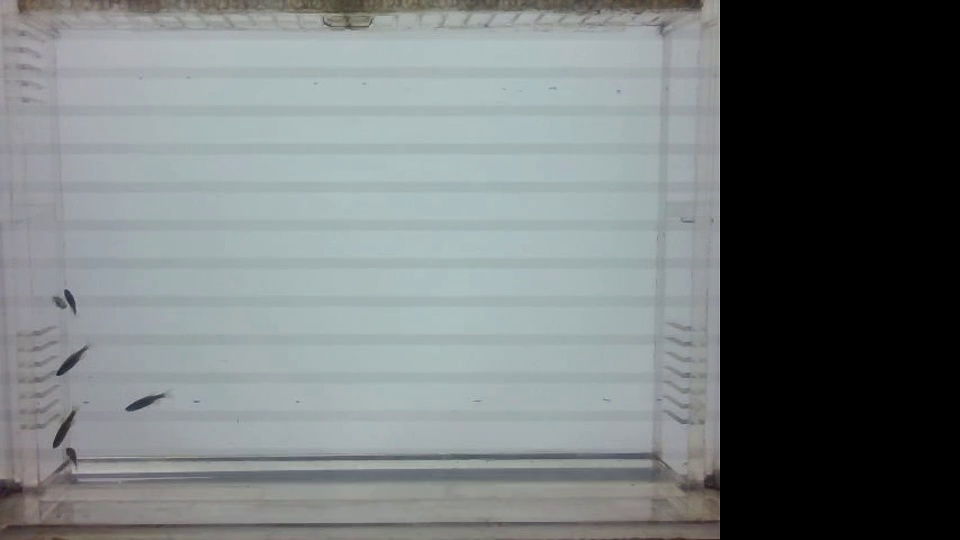fish: (48, 336, 94, 384), (117, 380, 173, 416), (44, 401, 77, 448), (61, 441, 86, 477), (65, 290, 84, 317), (46, 296, 66, 313)
